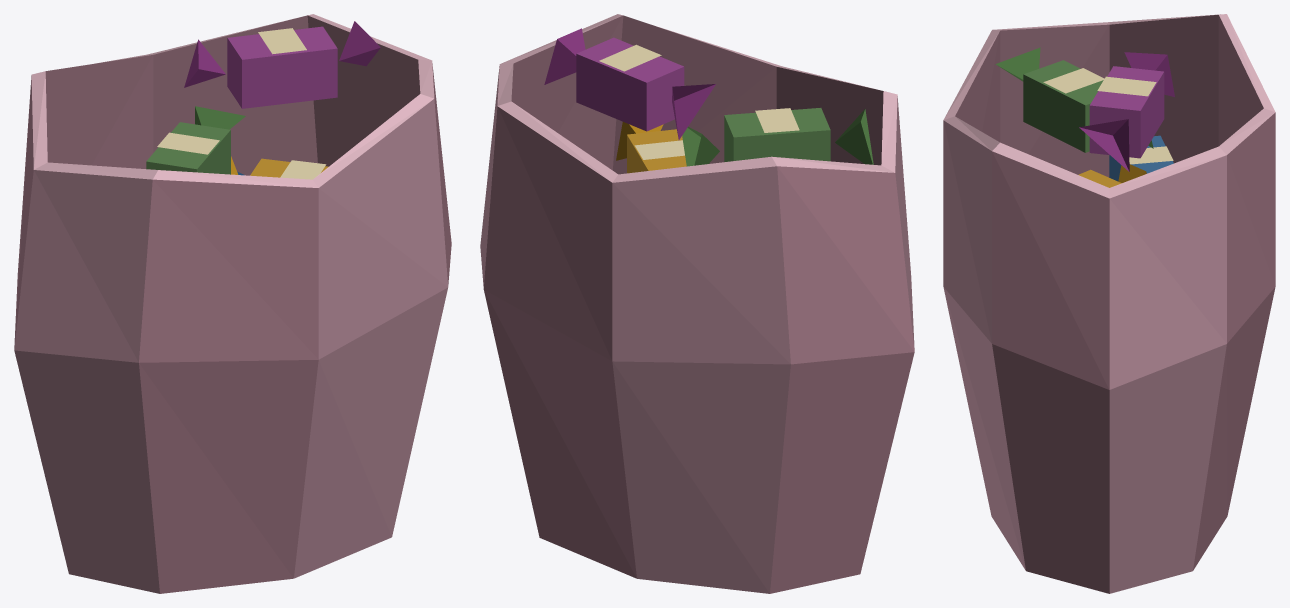
The model's file is candy.glb.
The picture shows the model from 3 angles, left to right: view 1: azimuth 30°, elevation 25°; view 2: azimuth 150°, elevation 25°; view 3: azimuth 270°, elevation 25°; orthographic projection. The views are drawn at different scales.
Parts seen in each view (by area): view 1: Candy; view 2: Candy; view 3: Candy.
Boxes of the visible parts, x1,y1,x2,y2 form: Candy: [14, 14, 451, 593]; Candy: [480, 14, 914, 593]; Candy: [943, 14, 1275, 593].
Bounding box in the file's own units: 0.112 × 0.116 × 0.076.
1 material, 1 textured.
